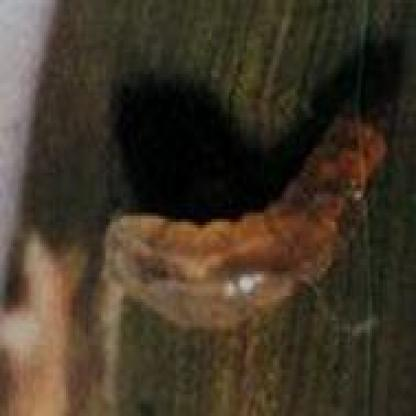whorl-maggot: (106, 121, 390, 332)
